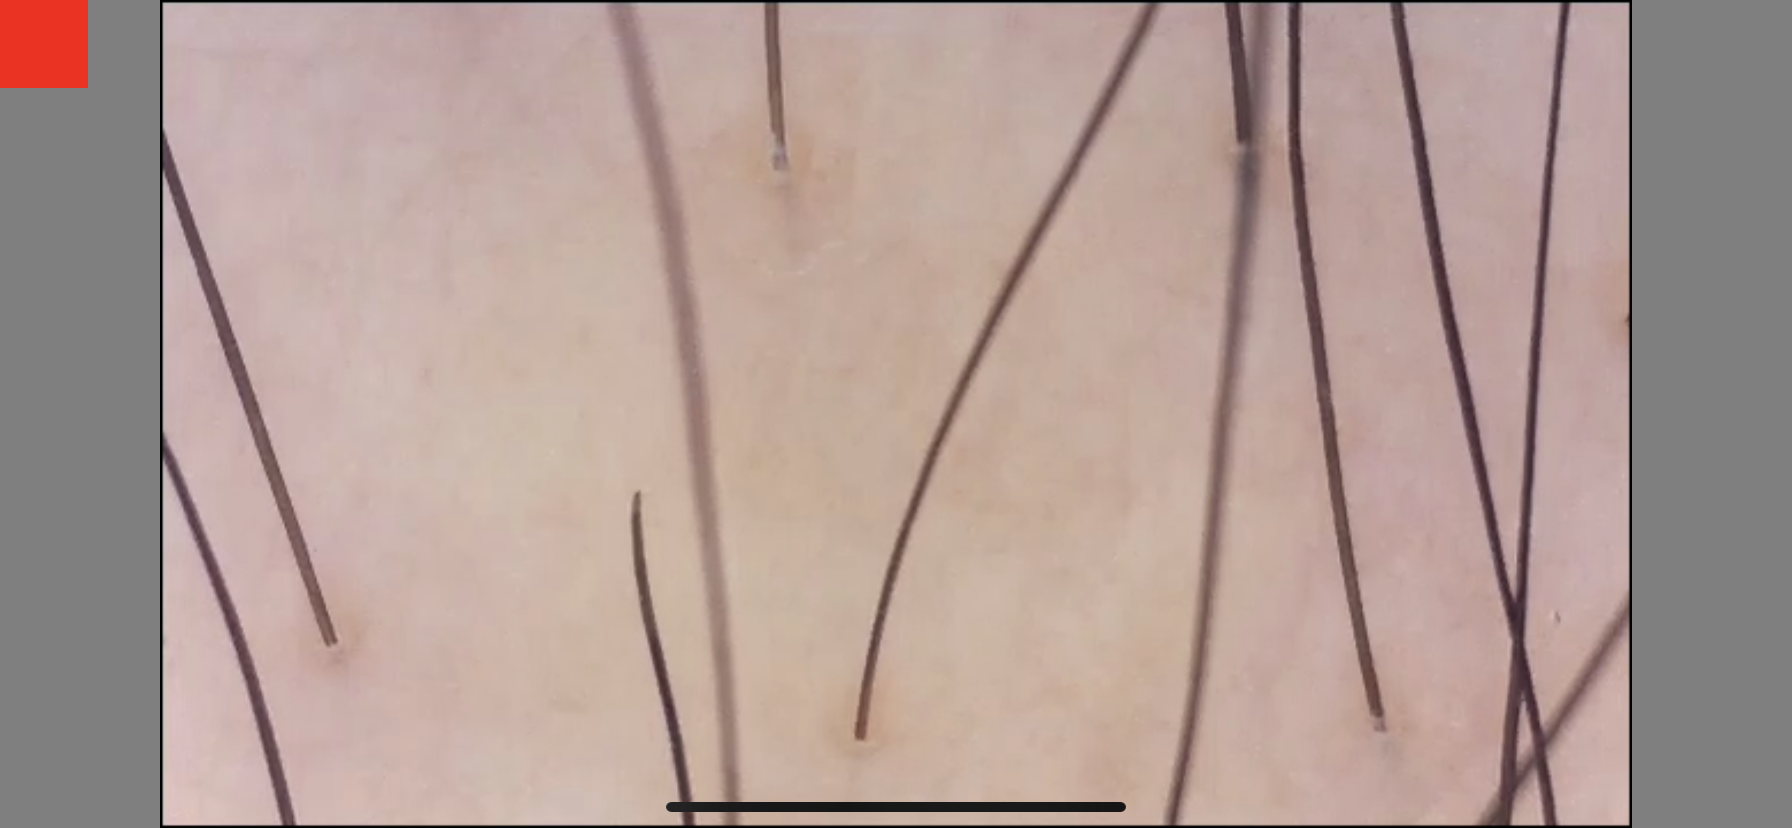FALSE: (611, 474, 664, 522)
TRUE: (746, 134, 813, 186), (297, 615, 362, 666), (828, 713, 884, 762), (1348, 697, 1406, 746), (1217, 113, 1269, 157)
